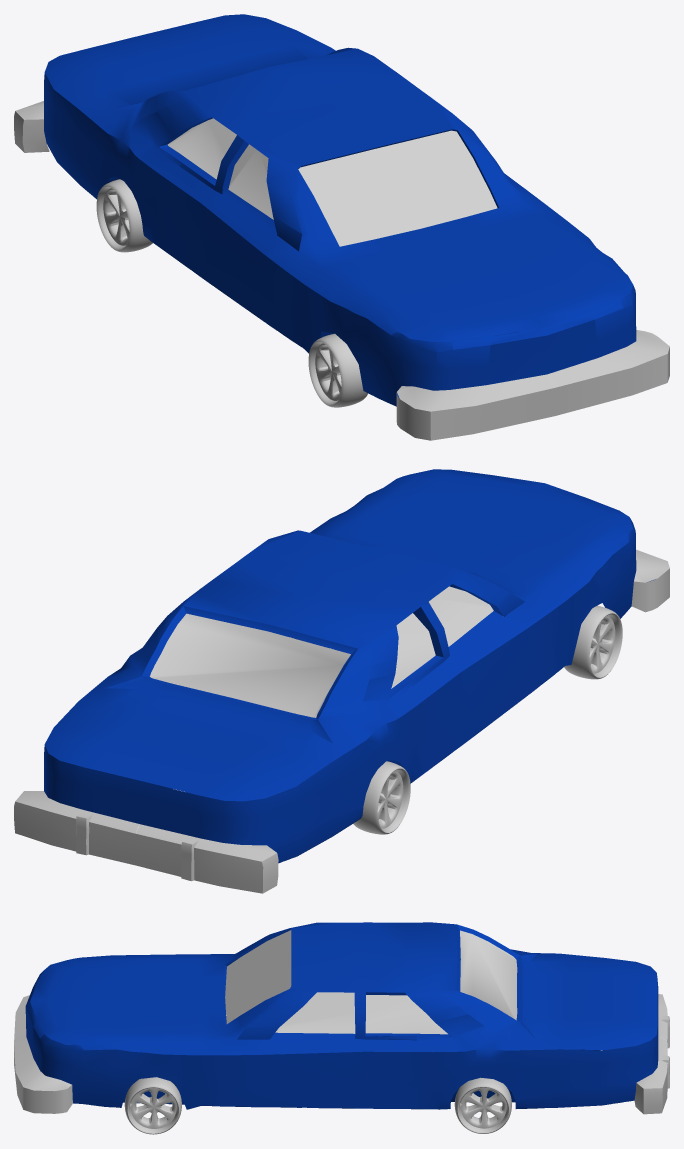
File: Carro_mijangos_prueba.fbx
3 renders of one model, top to bottom at view 1: azimuth 30°, elevation 25°; view 2: azimuth 150°, elevation 25°; view 3: azimuth 270°, elevation 25°, orthographic. The views are drawn at different scales.
Parts seen in each view (by area): view 1: topo, Llanta1 (2), Llanta1 (3); view 2: topo, Llanta1 (2), Llanta1 (3); view 3: topo, Llanta1, Llanta1 (4).
Part boxes in pixels (left/top/right/bottom): topo: left=14, top=14, right=669, bottom=440; Llanta1 (2): left=308, top=333, right=367, bottom=407; Llanta1 (3): left=96, top=179, right=152, bottom=252; topo: left=14, top=469, right=669, bottom=893; Llanta1 (2): left=564, top=605, right=622, bottom=679; Llanta1 (3): left=353, top=761, right=410, bottom=834; topo: left=14, top=922, right=669, bottom=1114; Llanta1: left=124, top=1077, right=181, bottom=1134; Llanta1 (4): left=454, top=1077, right=511, bottom=1133.
Size of the model in its own units: 499 by 282 by 1284.
